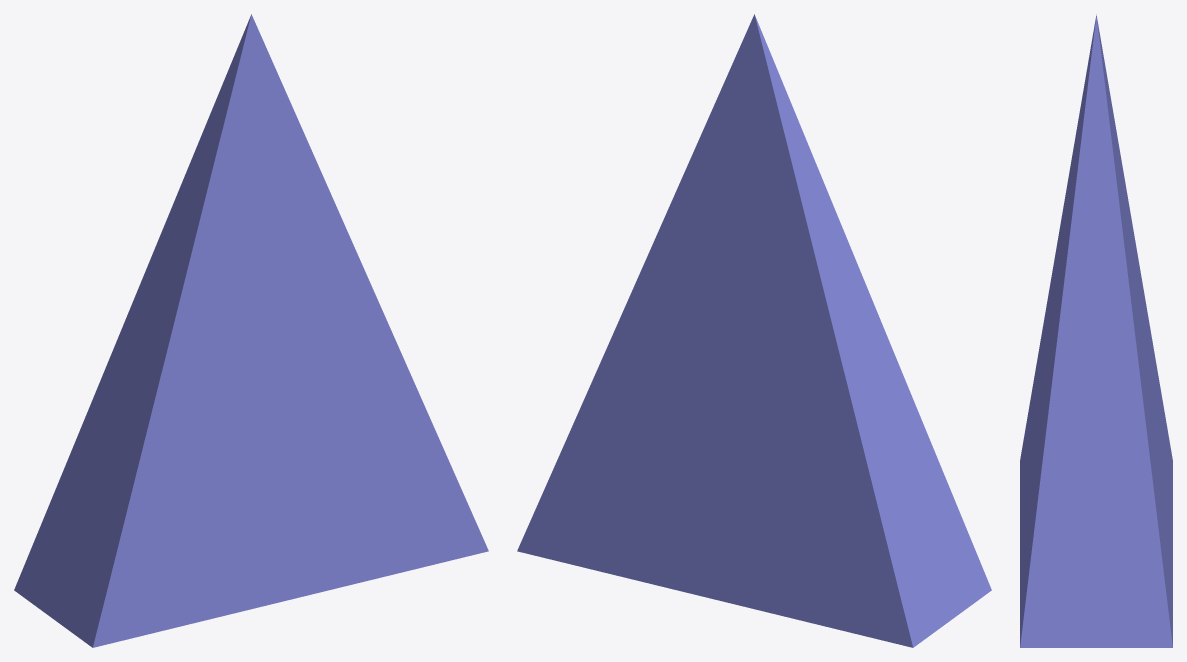
The model's file is Arrow.fbx.
The picture shows the model from 3 angles, left to right: view 1: azimuth 30°, elevation 25°; view 2: azimuth 150°, elevation 25°; view 3: azimuth 270°, elevation 25°; orthographic projection. The views are drawn at different scales.
Parts seen in each view (by area): view 1: Cube; view 2: Cube; view 3: Cube.
Boxes of the visible parts, bbox=[...] form: Cube: bbox=[14, 14, 488, 647]; Cube: bbox=[517, 14, 991, 647]; Cube: bbox=[1020, 14, 1172, 647].
Bounding box in the file's own units: 13.3 × 17.87 × 4.58.
